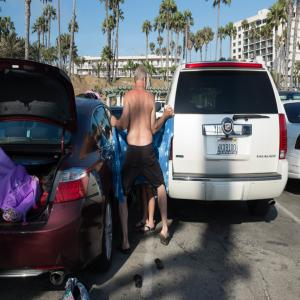Vehicle-registration-plate: (217, 139, 238, 157)
